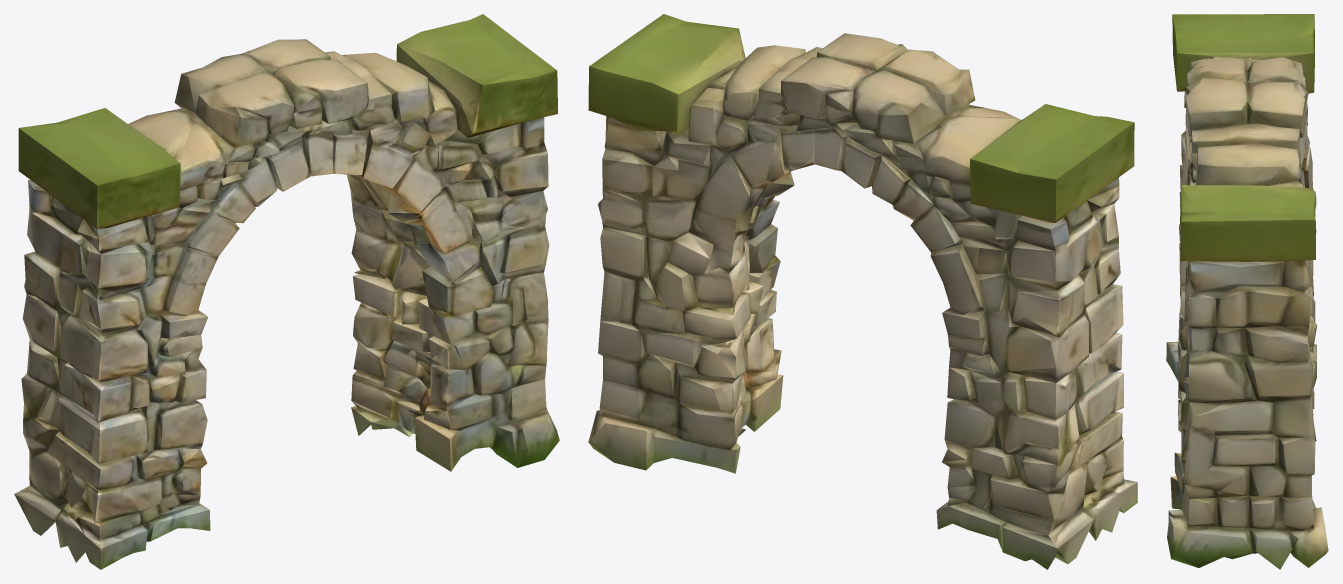
File: ruinGateR.glb
The picture shows the model from 3 angles, left to right: view 1: azimuth 30°, elevation 25°; view 2: azimuth 150°, elevation 25°; view 3: azimuth 270°, elevation 25°; orthographic projection. The views are drawn at different scales.
Parts seen in each view (by area): view 1: model; view 2: model; view 3: model.
Boxes of the visible parts, box(x1,y1,x2,y2) form: model: box(14, 14, 559, 569); model: box(588, 14, 1137, 569); model: box(1166, 14, 1328, 569).
Size of the model in its own units: 1.9 by 1.66 by 0.6253.
Materials: 1 (1 with a texture image).
